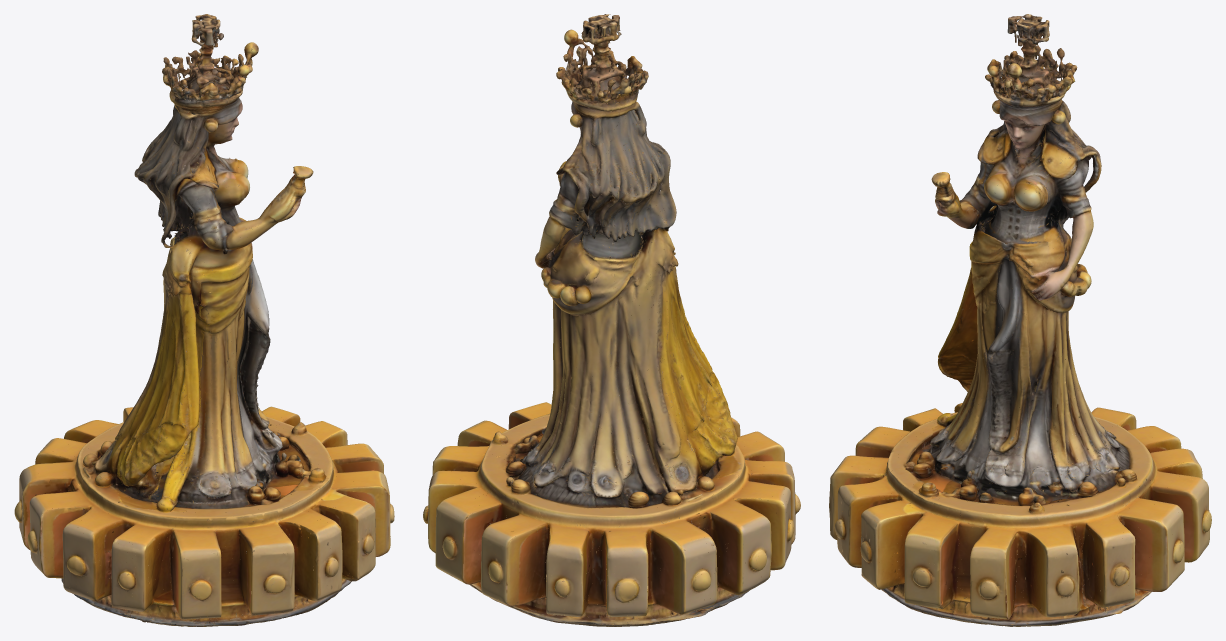
The model's file is queen.glb.
3 views of the same model, side by side, from view 1: azimuth 30°, elevation 25°; view 2: azimuth 150°, elevation 25°; view 3: azimuth 270°, elevation 25° (orthographic).
Parts seen in each view (by area): view 1: Object_4, Object_5, Object_6, Object_7; view 2: Object_4, Object_5, Object_6, Object_7; view 3: Object_4, Object_5, Object_6, Object_7.
Boxes of the visible parts, <box> form: Object_4: <box>23,56,390,626</box>; Object_5: <box>14,14,394,626</box>; Object_6: <box>18,14,392,626</box>; Object_7: <box>25,17,390,626</box>; Object_4: <box>427,55,796,626</box>; Object_5: <box>423,14,800,626</box>; Object_6: <box>424,14,798,626</box>; Object_7: <box>424,20,795,624</box>; Object_4: <box>832,62,1209,626</box>; Object_5: <box>829,14,1211,625</box>; Object_6: <box>837,14,1209,625</box>; Object_7: <box>829,22,1207,626</box>.
Bounding box in the file's own units: 1.26 × 2 × 1.27.
Materials: 1 (1 with a texture image).
